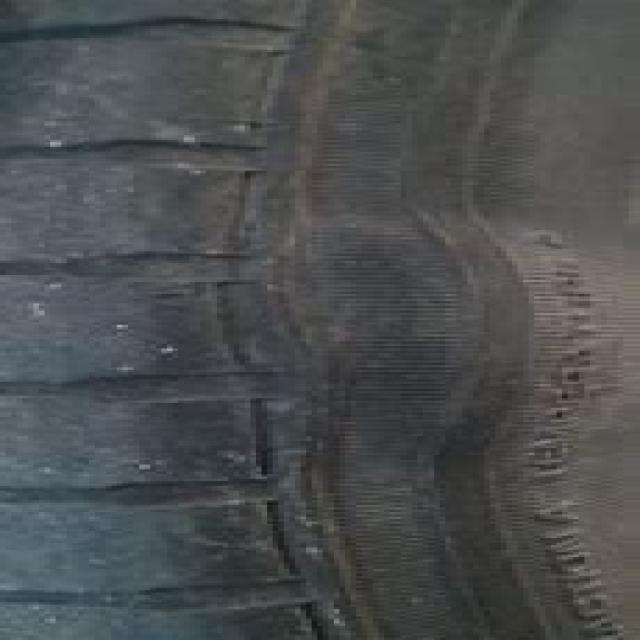Bulge: (202, 186, 640, 477)
